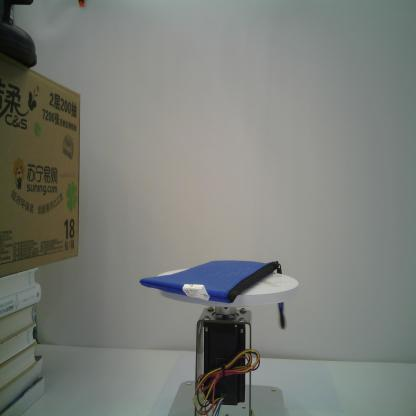Stationery: (138, 254, 287, 331)
